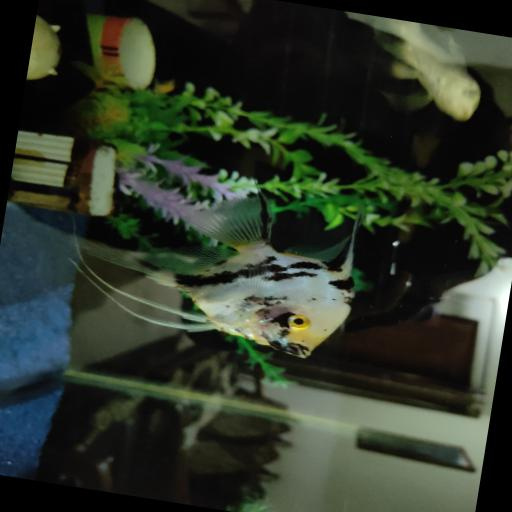Fish: (83, 194, 353, 356), (346, 11, 479, 120), (383, 40, 479, 120)
